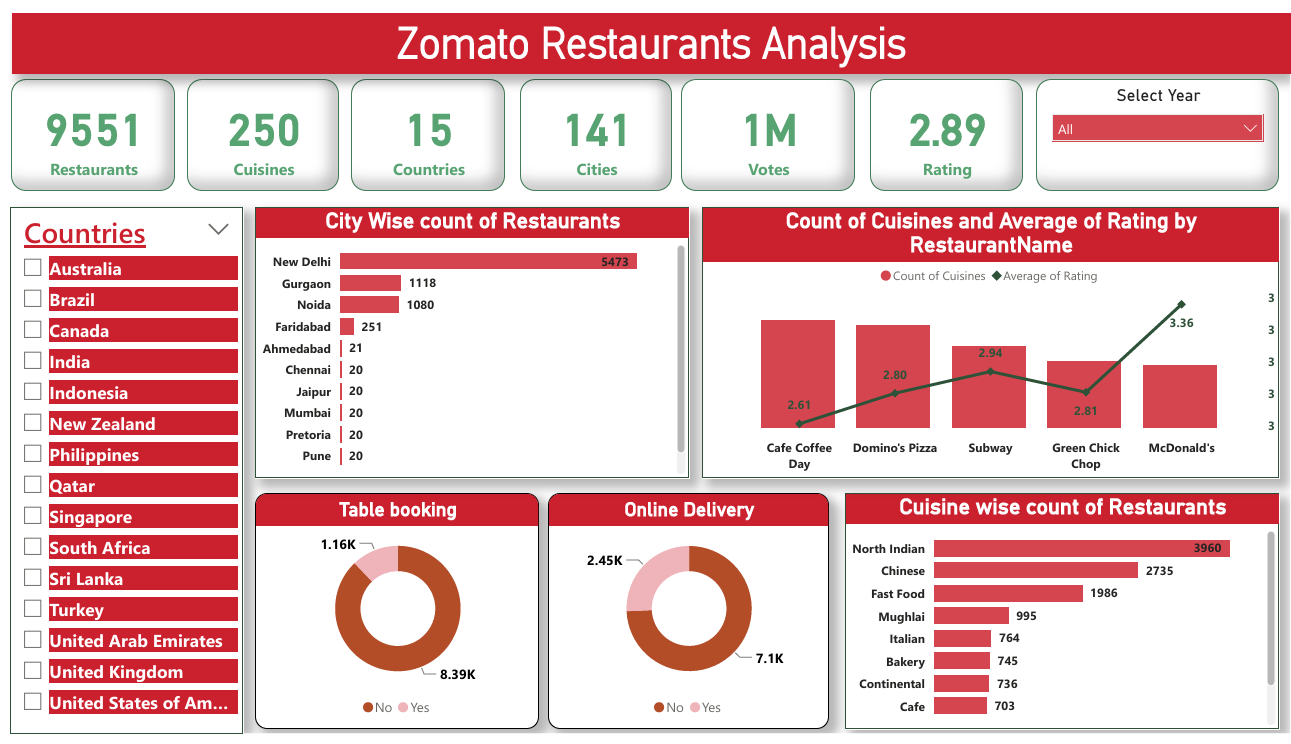

The page's visual inventory and layout, read from the dashboard file:
{"tool":"powerbi","page":{"name":"Dashboard","canvas":[1280,720],"ordinal":0},"visuals":[{"type":"slicer","fields":{"Values":["Sheet2.country name"]},"box":[0,194.2,232.6,526.7],"z":0},{"type":"card","fields":{"Values":["CountNonNull(Sheet2.countryID)"]},"box":[340.7,66.3,154.7,111.6],"z":2000},{"type":"card","fields":{"Values":["Min(Sheet1.Cuisines)"]},"box":[176.7,66.3,152.3,111.6],"z":3000},{"type":"card","fields":{"Values":["CountNonNull(Sheet1.RestaurantID)"]},"box":[1.2,66.3,164,111.6],"z":4000},{"type":"card","fields":{"Values":["Min(Sheet1.City)"]},"box":[510.5,66.3,151.2,111.6],"z":5000},{"type":"textbox","box":[1.5,0,1279.2,60.3],"z":6000},{"type":"donutChart","title":"Table booking ","fields":{"Category":["cuisines copy.Has_Table_booking"],"Y":["CountNonNull(cuisines copy.Has_Table_booking)"]},"box":[245.3,480.2,283.7,236],"z":7000},{"type":"donutChart","title":"Online Delivery","fields":{"Category":["cuisines copy.Has_Online_delivery"],"Y":["CountNonNull(cuisines copy.Has_Online_delivery)"]},"box":[538.4,480.2,280.2,236],"z":8000},{"type":"clusteredBarChart","title":"Cuisine wise count of Restaurants","fields":{"Category":["Sheet1.Column"],"Y":["CountNonNull(Sheet1.Cuisines)"]},"box":[834.9,480.2,433.7,236],"z":9000},{"type":"clusteredBarChart","title":"City Wise count of Restaurants","fields":{"Category":["cuisines copy.City"],"Y":["CountNonNull(cuisines copy.RestaurantID)"]},"box":[245.3,194.2,433.7,270.9],"z":10000},{"type":"lineStackedColumnComboChart","fields":{"Category":["cuisines copy.RestaurantName"],"Y":["CountNonNull(cuisines copy.Cuisines)"],"Y2":["Sum(cuisines copy.Rating)"]},"box":[691.9,194.2,576.7,270.9],"z":11000},{"type":"slicer","title":"Select Year","fields":{"Values":["cuisines copy.new datekey.Variation.Date Hierarchy.Year","cuisines copy.new datekey.Variation.Date Hierarchy.Quarter","cuisines copy.new datekey.Variation.Date Hierarchy.Month","cuisines copy.new datekey.Variation.Date Hierarchy.Day"]},"box":[1025.6,66.3,243,111.6],"z":13000},{"type":"card","fields":{"Values":["Sum(cuisines copy.Votes)"]},"box":[670.9,66.3,174.4,111.6],"z":14000},{"type":"card","fields":{"Values":["Sum(cuisines copy.Rating)"]},"box":[860.5,66.3,152.3,111.6],"z":15000}]}

Visuals, with their boxes in screenshot pixels (x1, y1, x2, y2), scaled from the page's 1280x720 canvas onto the 1291x744 screenshot:
slicer - Sheet2.country name: <bbox>0, 201, 235, 743</bbox>
card - CountNonNull(Sheet2.countryID): <bbox>344, 69, 500, 184</bbox>
card - Min(Sheet1.Cuisines): <bbox>178, 69, 332, 184</bbox>
card - CountNonNull(Sheet1.RestaurantID): <bbox>1, 69, 167, 184</bbox>
card - Min(Sheet1.City): <bbox>515, 69, 667, 184</bbox>
textbox: <bbox>2, 0, 1290, 62</bbox>
"Table booking " donutChart: <bbox>247, 496, 534, 740</bbox>
"Online Delivery" donutChart: <bbox>543, 496, 826, 740</bbox>
"Cuisine wise count of Restaurants" clusteredBarChart: <bbox>842, 496, 1280, 740</bbox>
"City Wise count of Restaurants" clusteredBarChart: <bbox>247, 201, 685, 481</bbox>
lineStackedColumnComboChart - cuisines copy.RestaurantName x CountNonNull(cuisines copy.Cuisines): <bbox>698, 201, 1280, 481</bbox>
"Select Year" slicer: <bbox>1034, 69, 1280, 184</bbox>
card - Sum(cuisines copy.Votes): <bbox>677, 69, 853, 184</bbox>
card - Sum(cuisines copy.Rating): <bbox>868, 69, 1022, 184</bbox>
